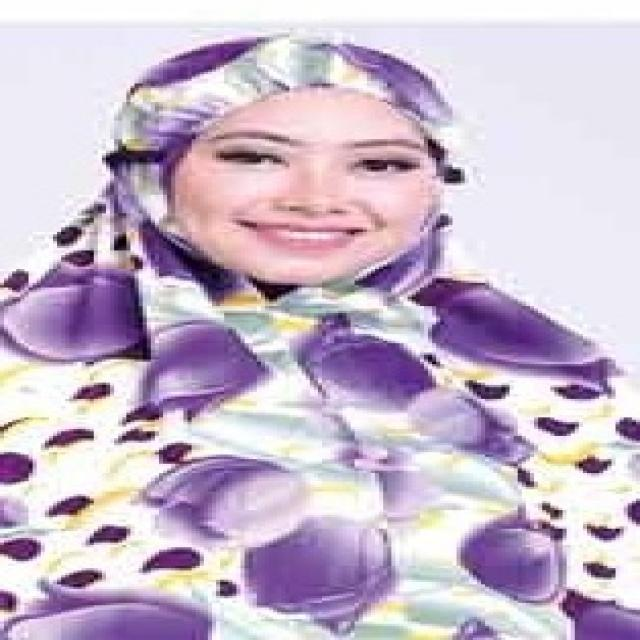head: (107, 33, 481, 291)
